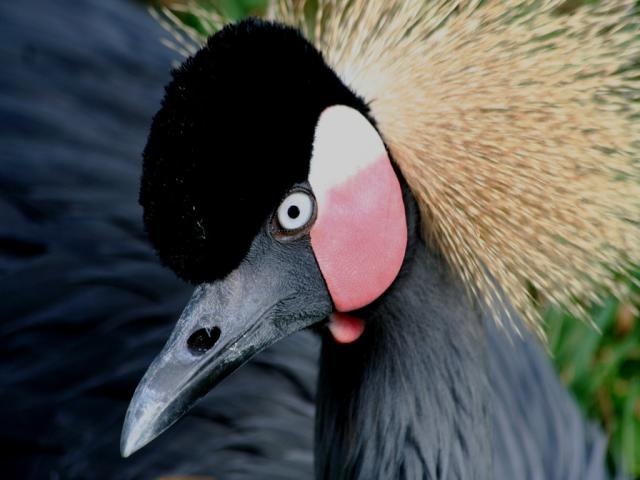Bird: (106, 6, 626, 480)
